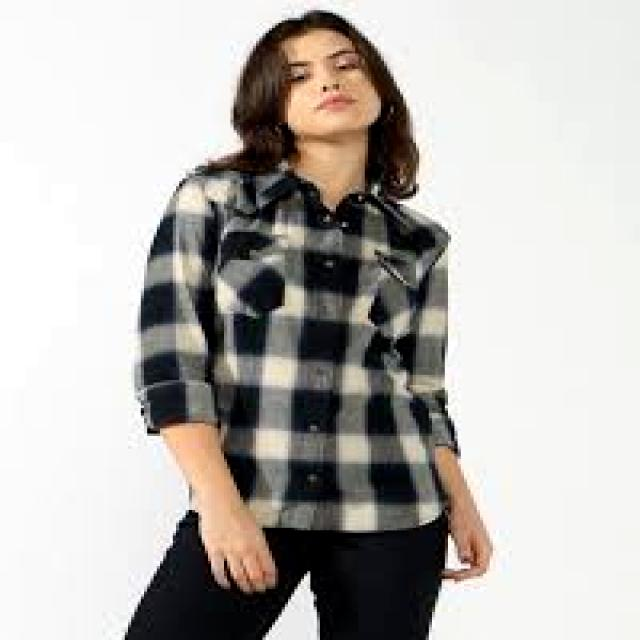face: (282, 29, 380, 140)
lower-wear: (125, 510, 447, 639)
top-wear: (135, 161, 460, 530)
